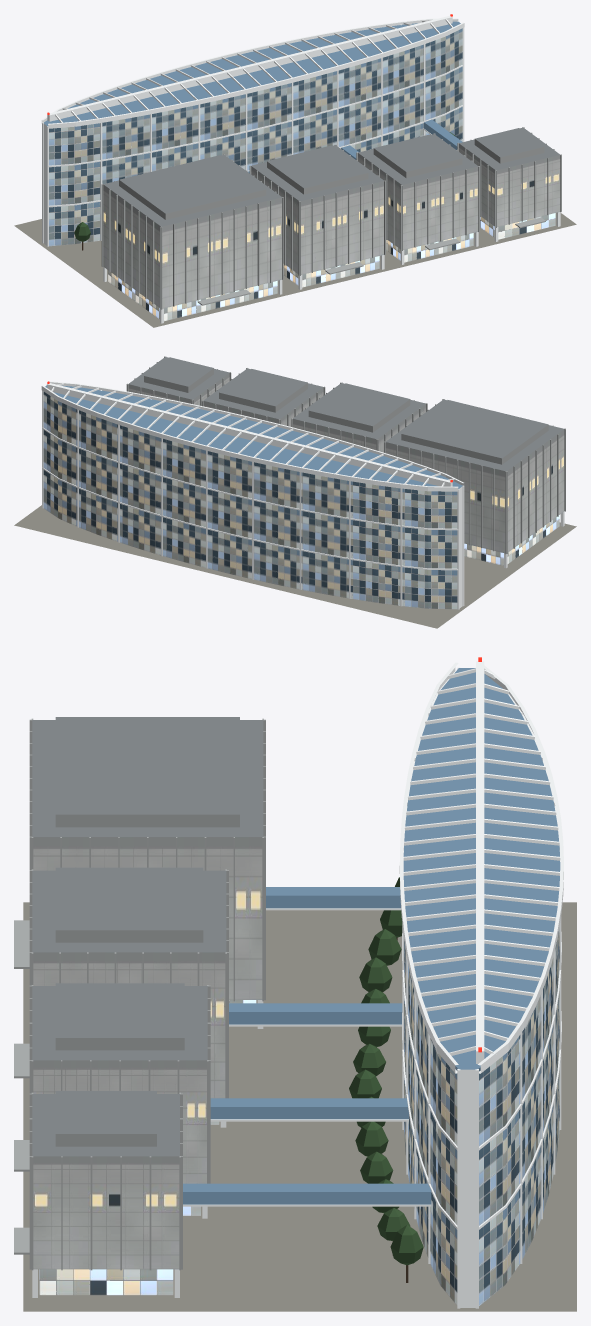
Rendered from tokyo_international_forum.glb.
3 renders of one model, top to bottom at view 1: azimuth 30°, elevation 25°; view 2: azimuth 150°, elevation 25°; view 3: azimuth 270°, elevation 25°, orthographic. The views are drawn at different scales.
Visible parts, largest first — view 1: tokyo_international_forum; view 2: tokyo_international_forum; view 3: tokyo_international_forum.
Part boxes in pixels (box(x1,y1,x2,y2)): tokyo_international_forum: box(14, 14, 576, 327); tokyo_international_forum: box(14, 356, 576, 628); tokyo_international_forum: box(14, 657, 576, 1311).
Size of the model in its own units: 210 by 60.8 by 122.
Materials: 2 (2 with a texture image).
